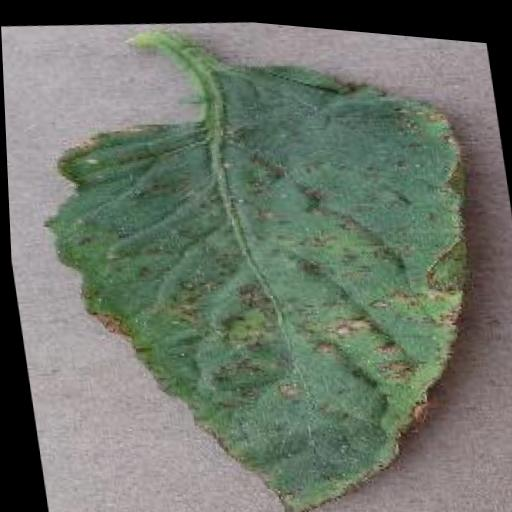Bacterial Spot: (18, 16, 512, 512)
